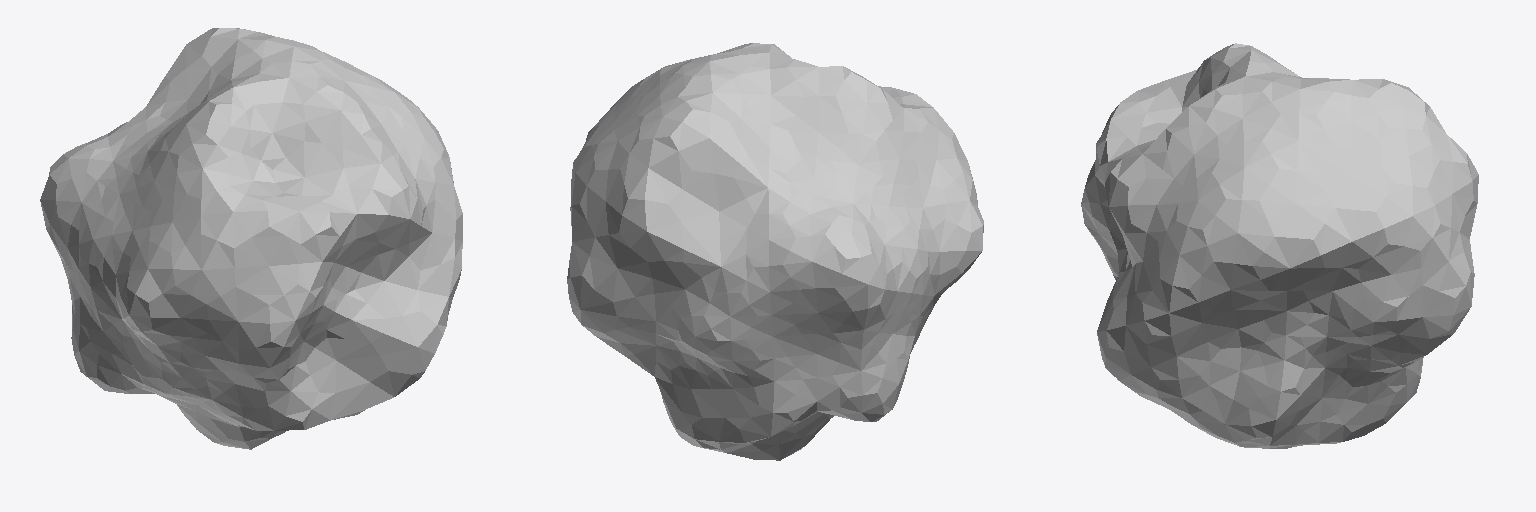
File: asteroid1.obj
The picture shows the model from 3 angles: view 1: azimuth 30°, elevation 25°; view 2: azimuth 150°, elevation 25°; view 3: azimuth 270°, elevation 25°; orthographic projection.
Visible parts, largest first — view 1: Asteroid1; view 2: Asteroid1; view 3: Asteroid1.
Boxes of the visible parts, x1=… form: Asteroid1: x1=40, y1=28, x2=462, y2=449; Asteroid1: x1=567, y1=43, x2=983, y2=460; Asteroid1: x1=1081, y1=43, x2=1478, y2=448.
Size of the model in its own units: 1.76 by 1.88 by 1.78.